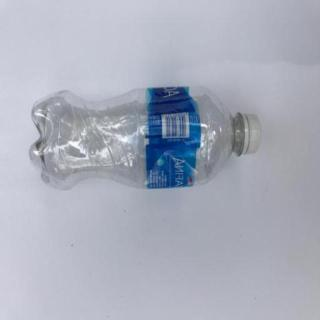Anorganik: (29, 80, 263, 194)
